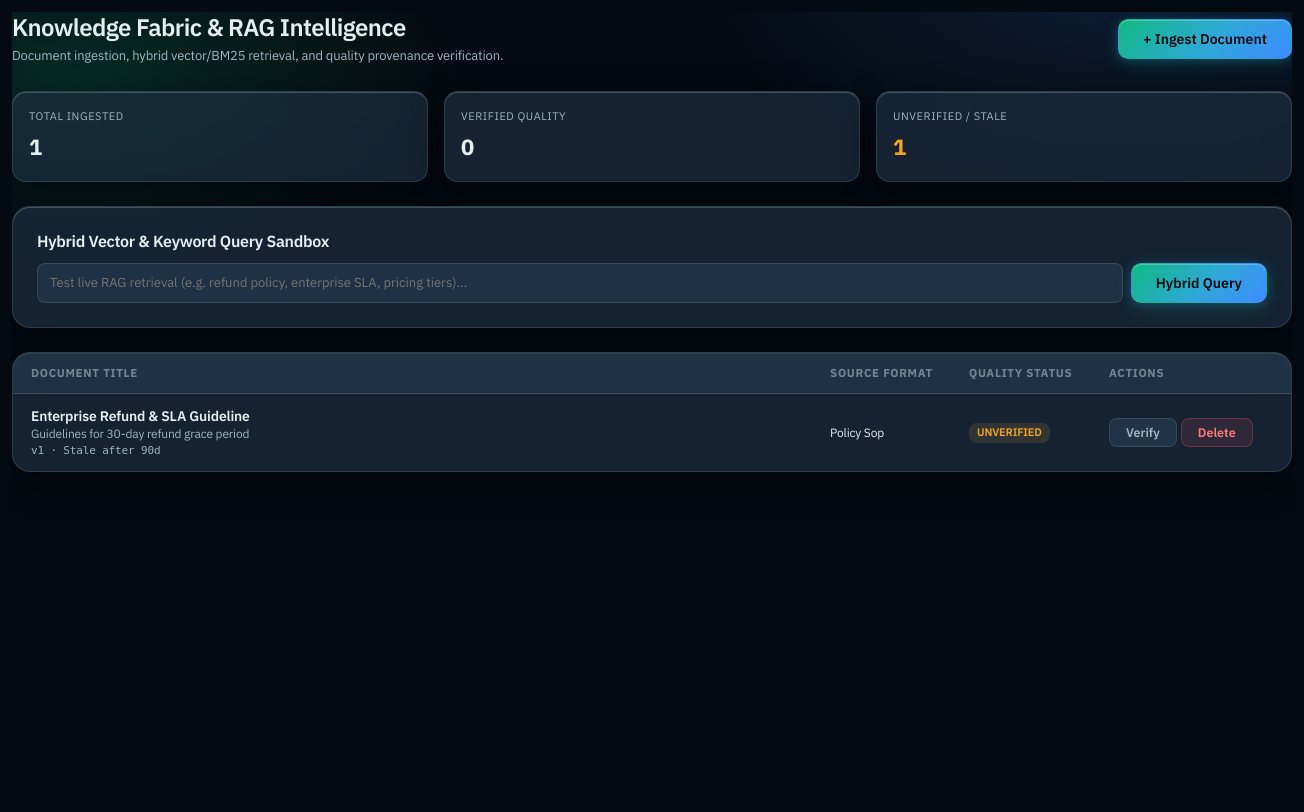
KnowledgeCenter Page › renders documents table and allows hybrid RAG query search
Expected: the heading "Knowledge Fabric & RAG Intelligence" is shown, [12,11,406,43]
Expected: the text "Enterprise Refund & SLA Guideline" is shown, [31,407,250,425]
Replace the text in the field with placeholder "Test live RAG retrieval" with "refund period" at (580, 283), box [37,263,1123,303]
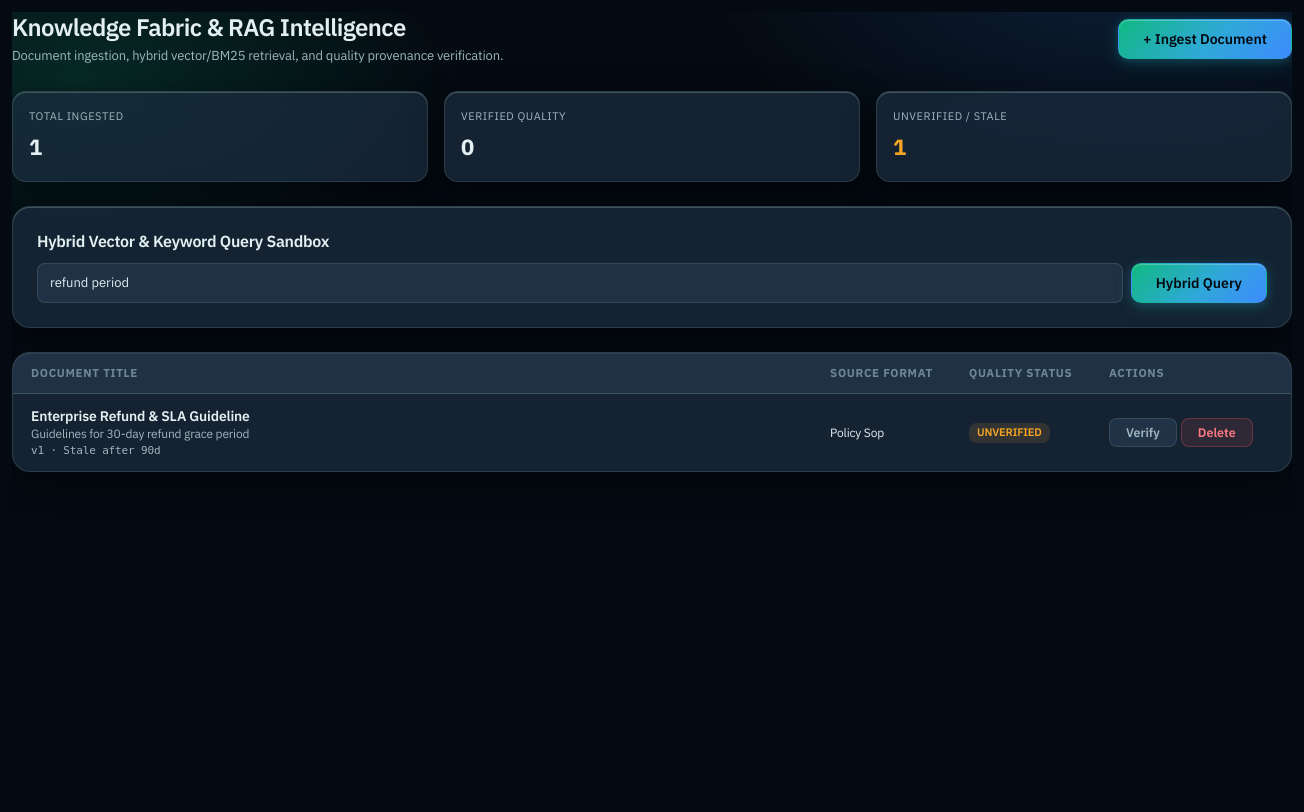
Click the button "Hybrid Query" at (1199, 283), box [1131,263,1267,303]
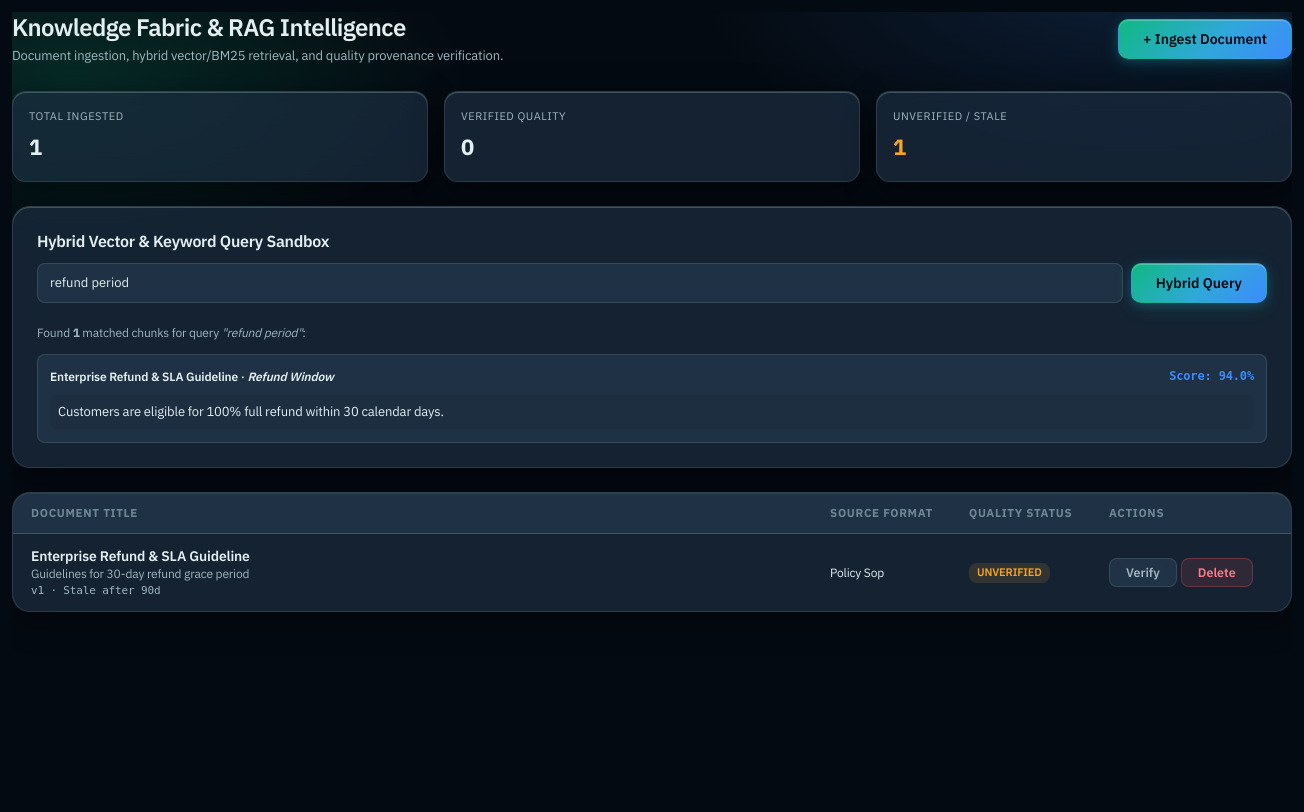
Now the text "Customers are eligible for 100% full refund" is shown, box [58,403,444,420]
Now the text "Score: 94.0%" is shown, box [1169,367,1254,386]
